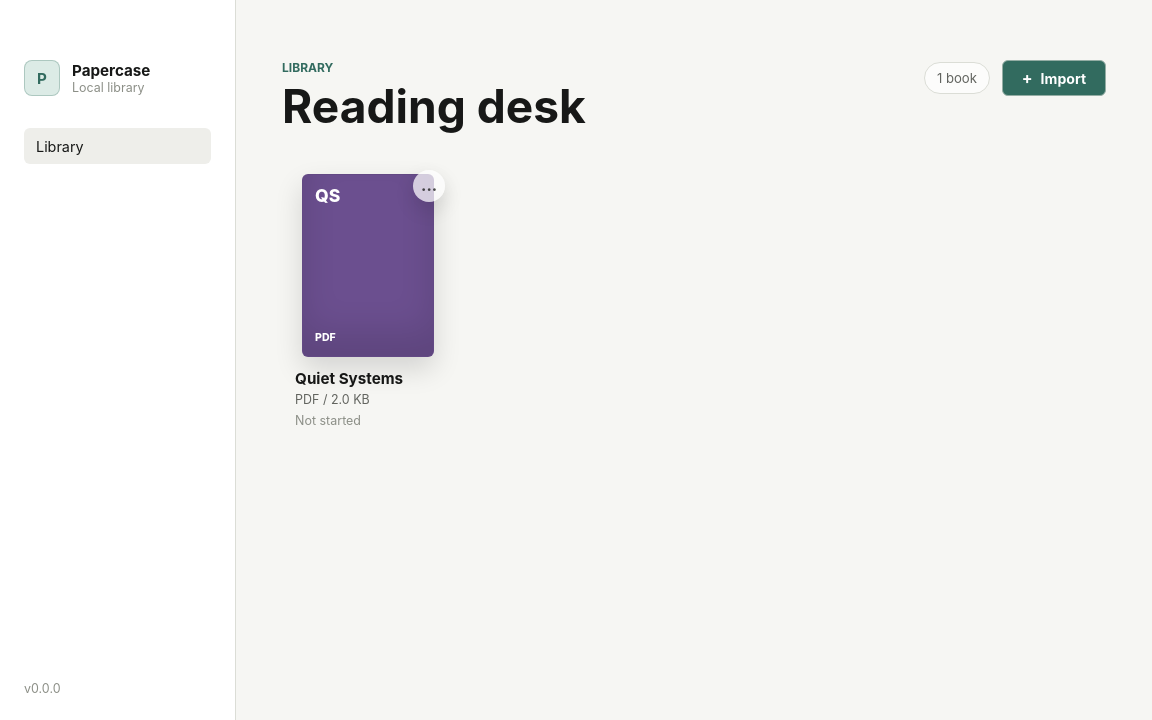
it: App › shows highlight list errors without hiding the panel
Click the button with aria-label "Open Quiet Systems": (368, 302) [295,174,441,430]
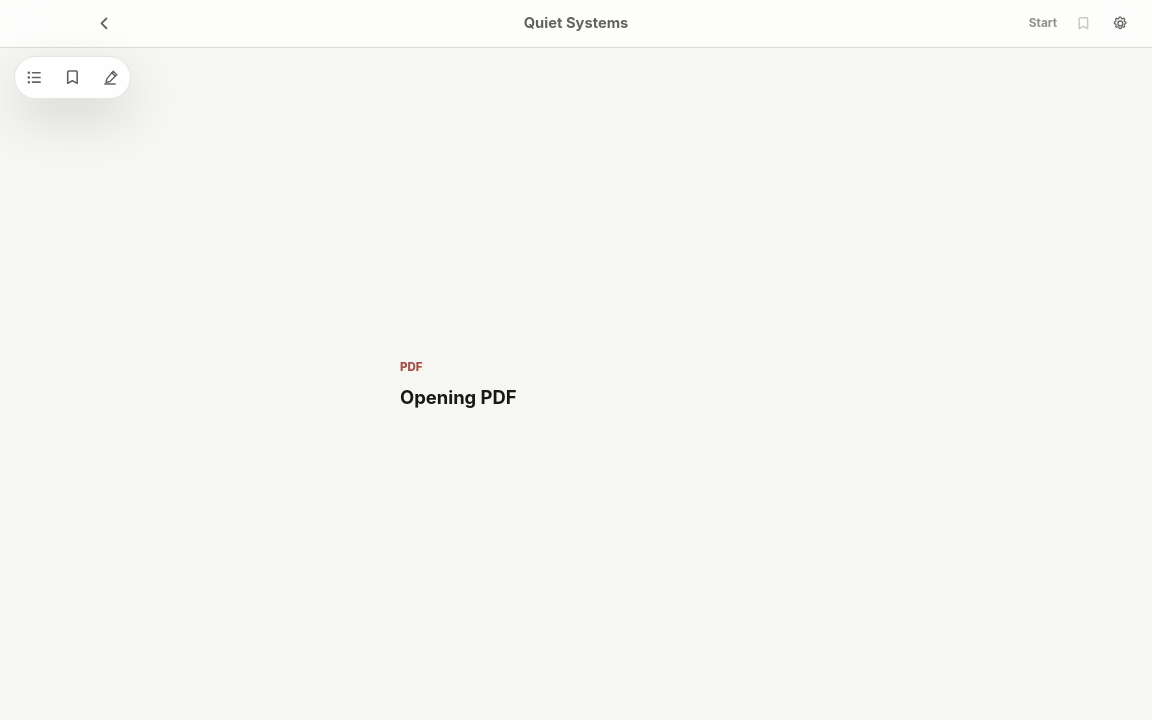
Click the button named "Show highlights and notes": (110, 77) [93,60,127,94]
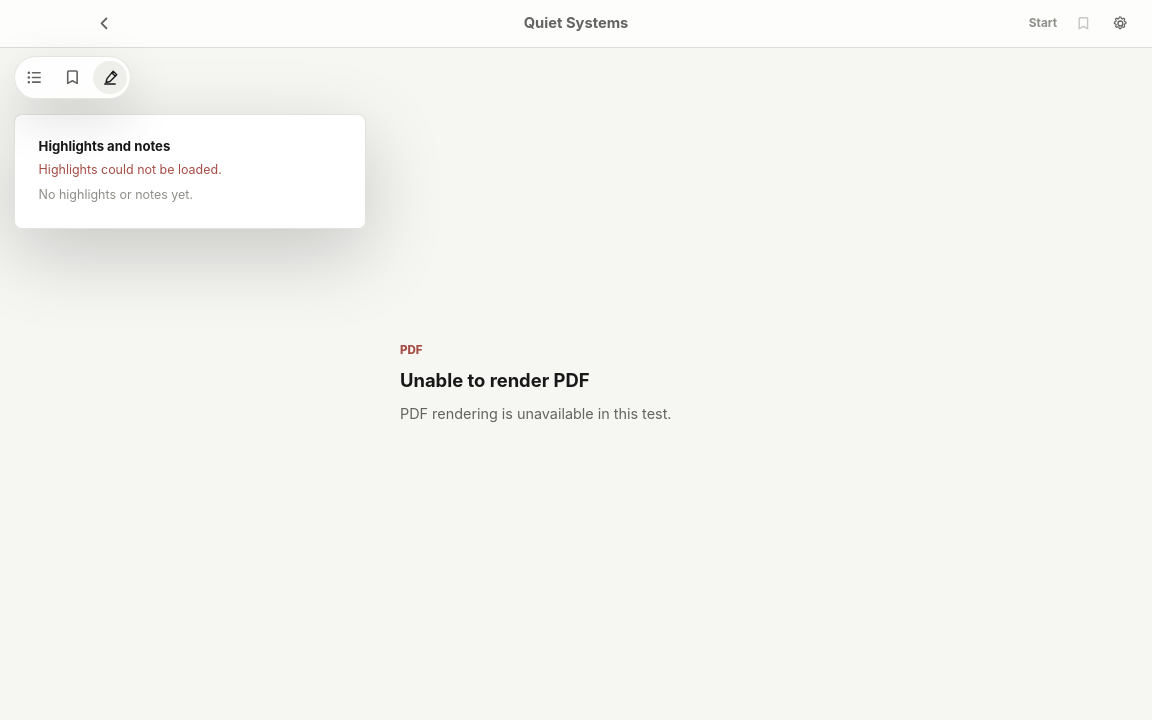
Result: the text "Highlights could not be loaded." is shown at [39,162,222,177]
Result: the heading "Highlights and notes" is shown at [39,138,170,154]
